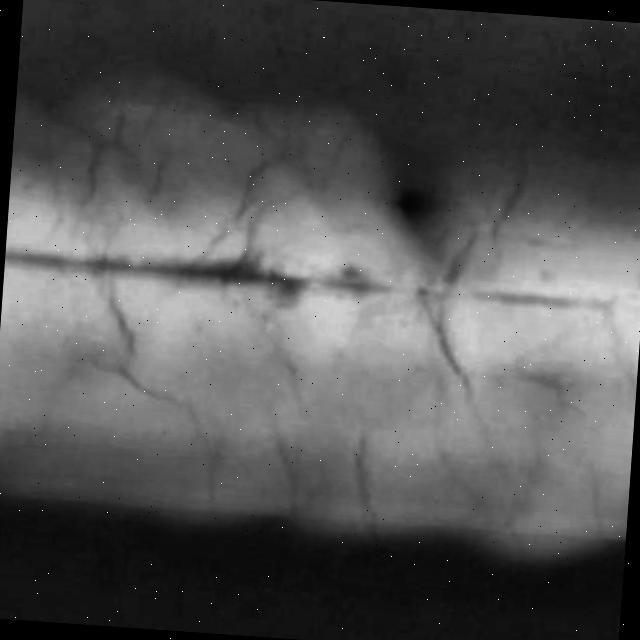Crack: (44, 82, 330, 266), (51, 297, 250, 511), (245, 319, 416, 539), (404, 310, 548, 519), (480, 64, 570, 274)
LoP-LoF: (2, 230, 627, 332)
Pore: (378, 172, 458, 241)
